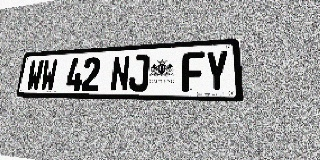2: (81, 57, 101, 91)
4: (65, 58, 85, 91)
F: (182, 51, 204, 92)
J: (129, 54, 150, 91)
N: (110, 55, 130, 91)
W: (40, 59, 58, 91), (26, 60, 44, 91)
Y: (205, 50, 229, 92)
